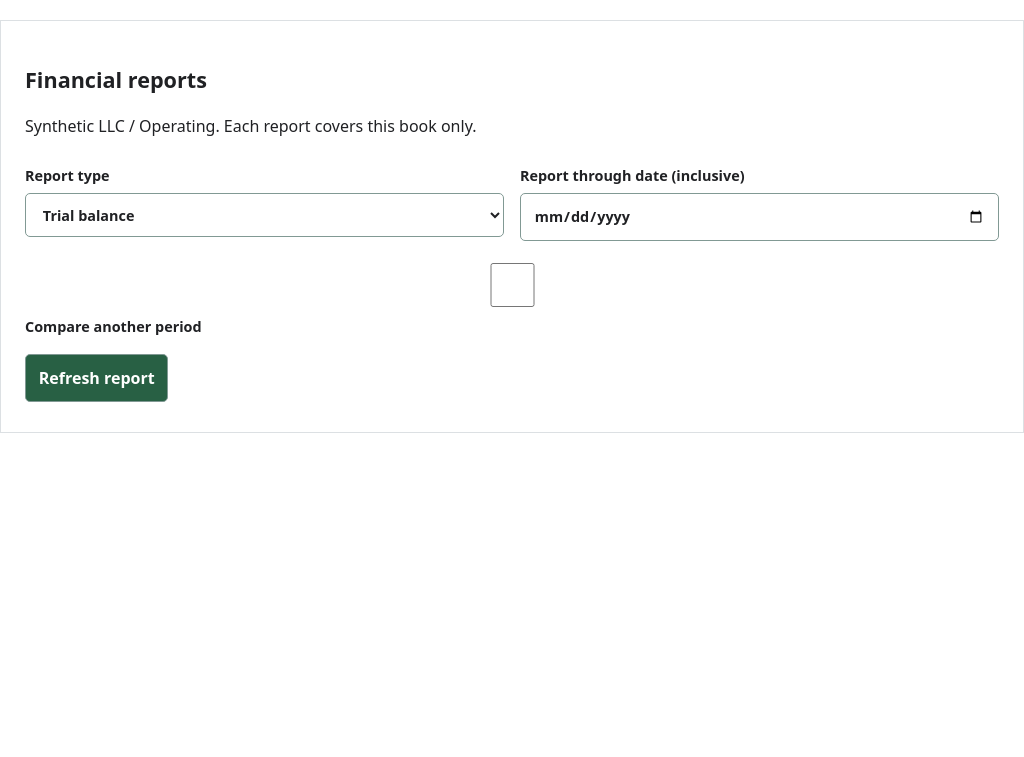
Scenario: scoped report actions › clears all report values after export denial 403
Type "2026-01-31" into the date field labelled "Report through date (inclusive)". click: [760, 217]
box: 520,193 -> 999,240
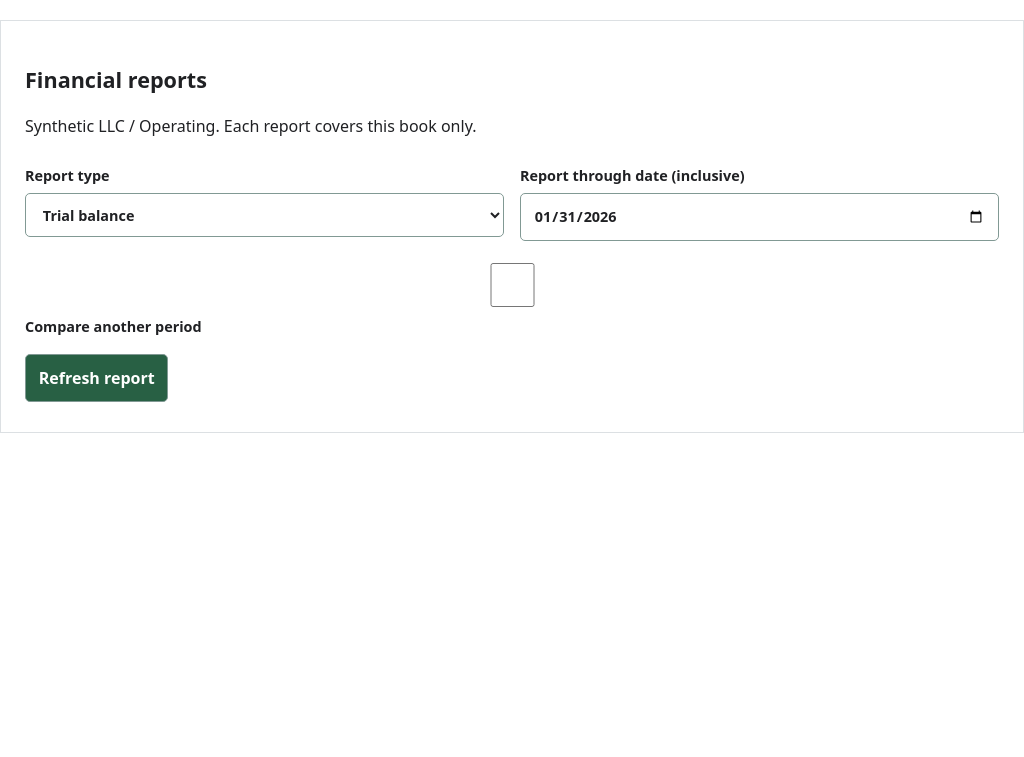
Click the button "Refresh report". click: [97, 378]
box: 25,354 -> 168,402
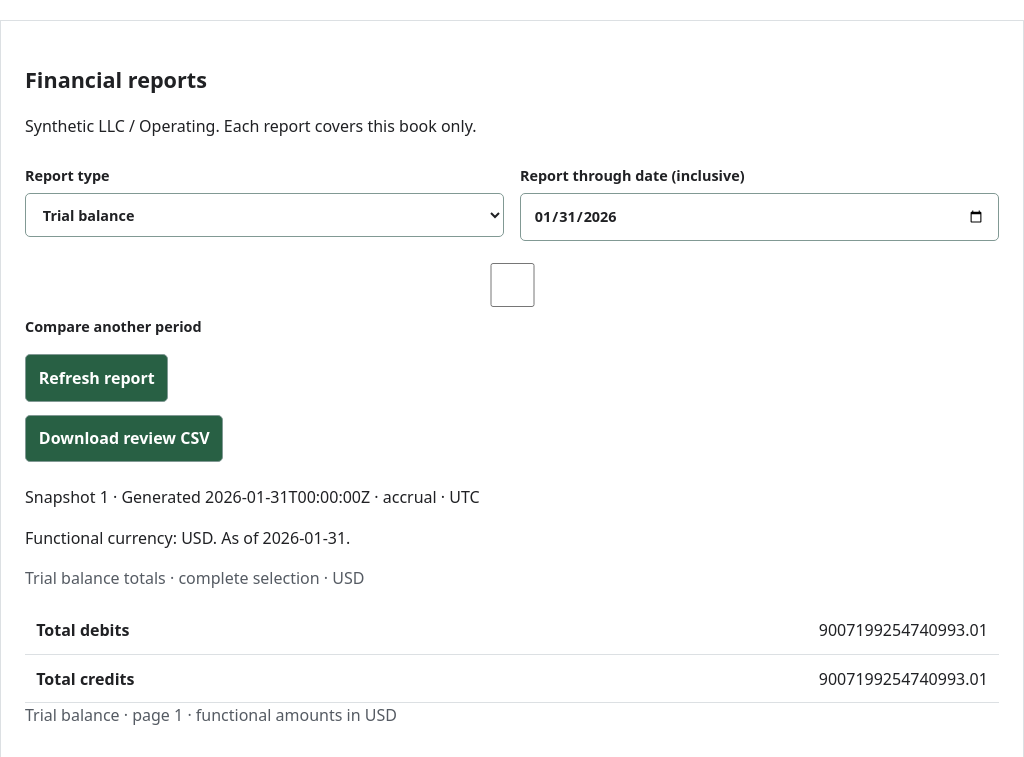
expect the text "Snapshot 1 · Generated 2026-01-31T00:00:00Z · accrual · UTC" is shown: met, box 25,486 -> 480,508
Click the button "Download review CSV". click: [124, 439]
box: 25,415 -> 223,462
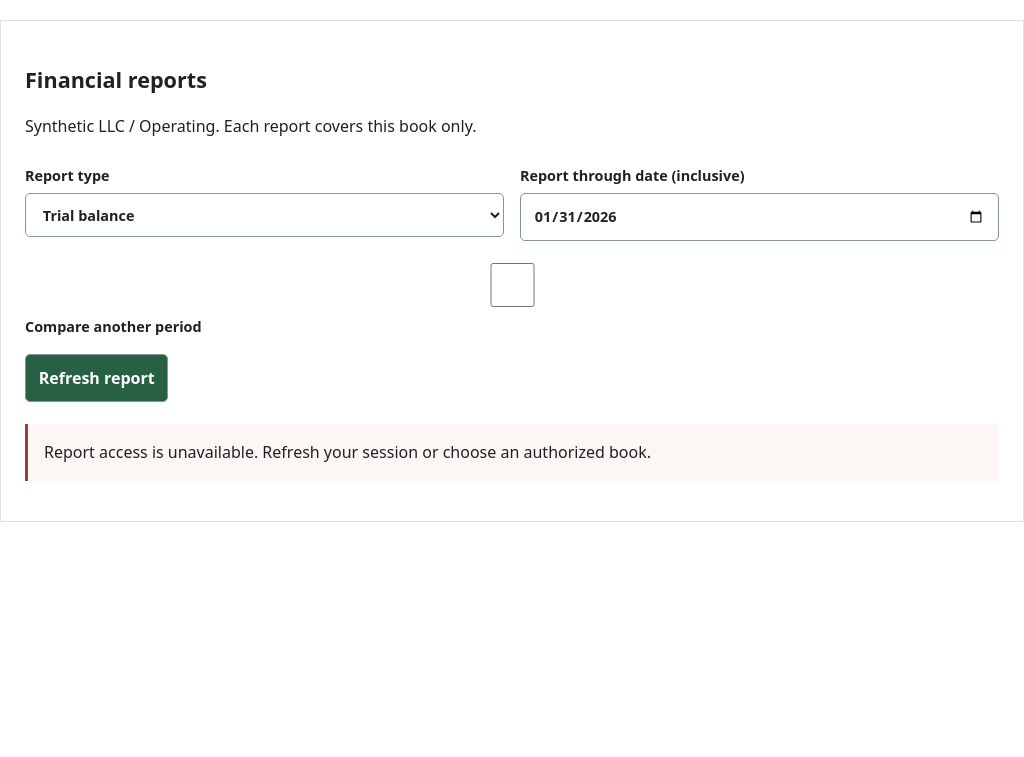
expect the message is shown: met, box 25,424 -> 999,481
expect the text "Snapshot 1" is gone: met
expect the text "9007199254740993.01" is not shown: met
